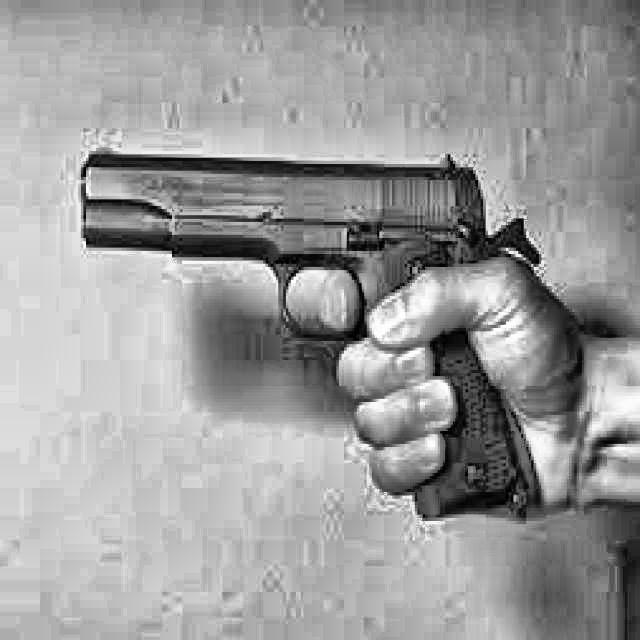pistol: (68, 124, 568, 555)
